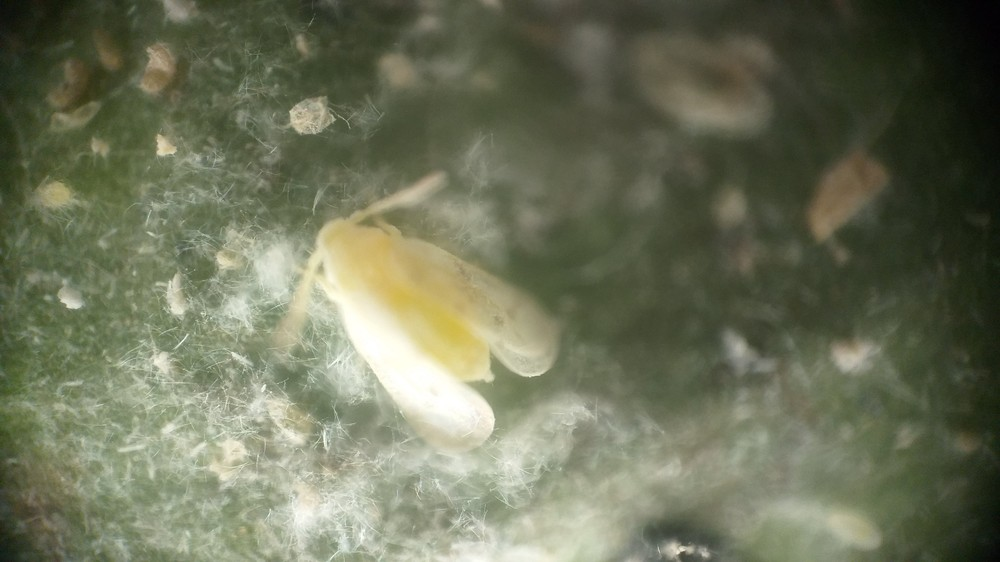Mosca Blanca: (252, 157, 576, 482)
